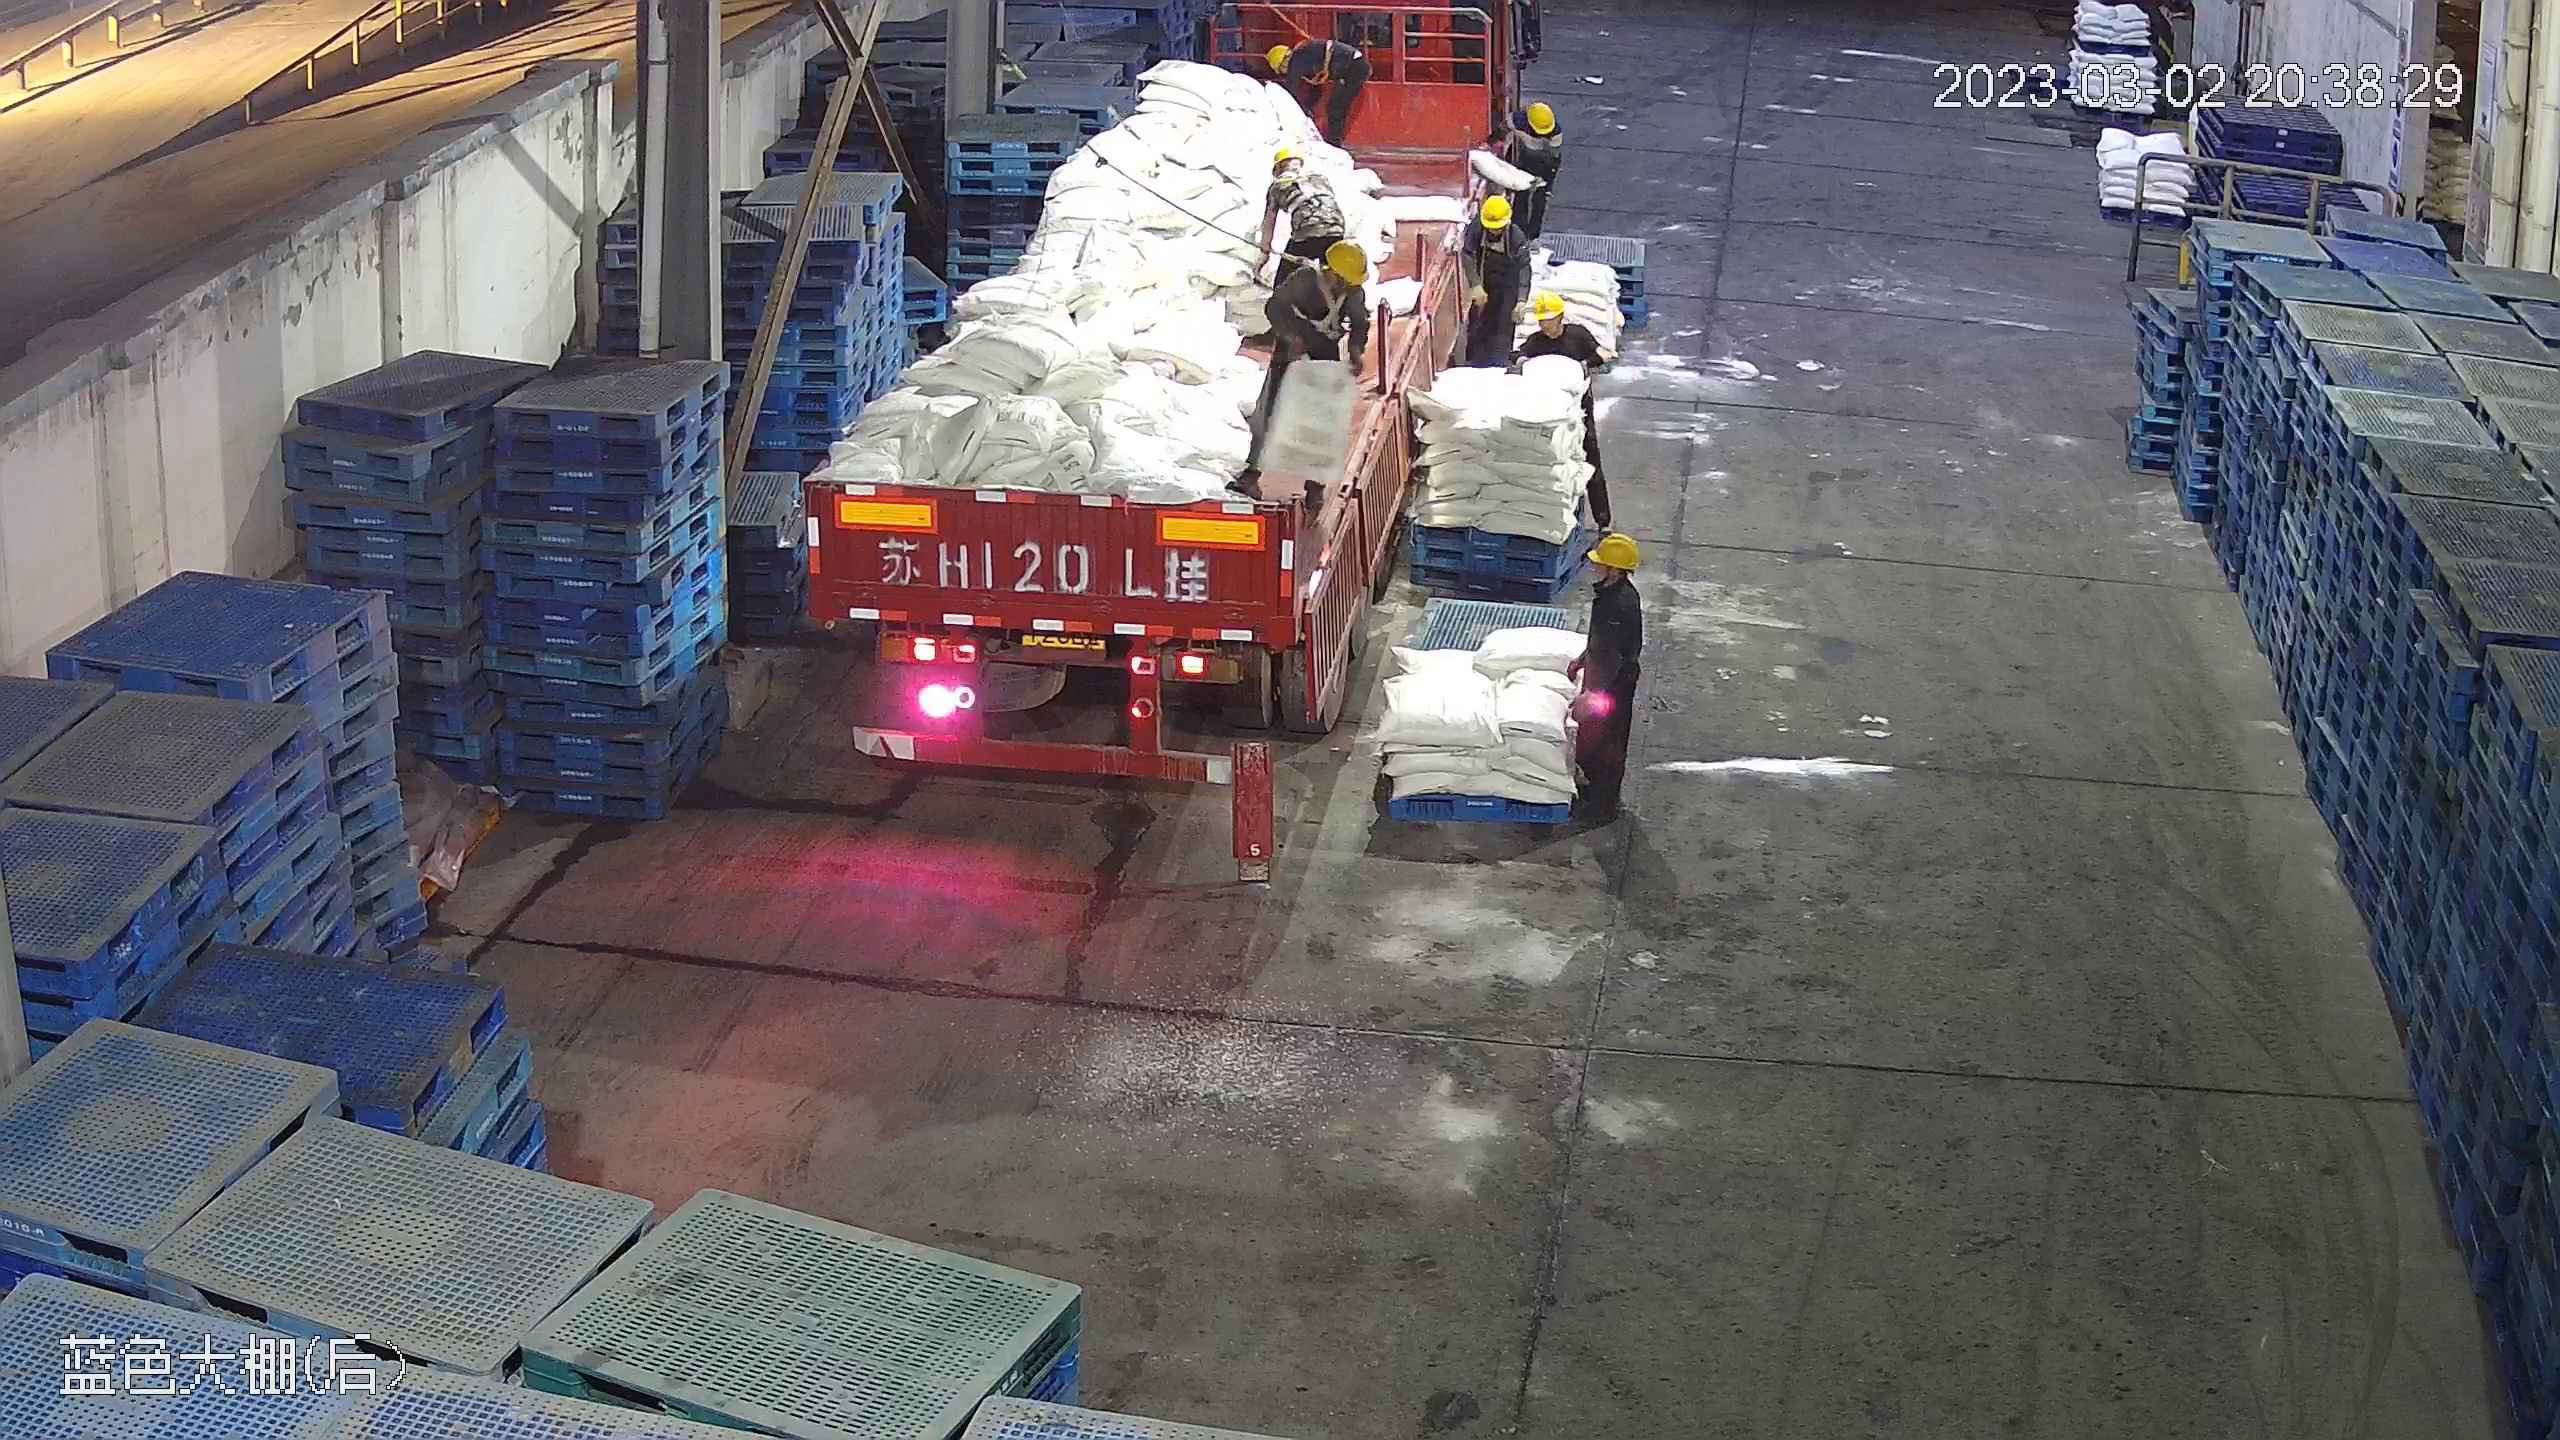belt: (1287, 265, 1353, 334), (1282, 171, 1328, 221), (1299, 36, 1342, 75), (1477, 223, 1512, 258)
head: (1276, 238, 1371, 324), (1580, 529, 1642, 636), (1520, 291, 1600, 358), (1463, 191, 1532, 266), (1502, 102, 1560, 169), (1264, 37, 1332, 82), (1269, 145, 1324, 197)
helmet: (1320, 237, 1370, 289), (1585, 529, 1640, 569), (1479, 192, 1514, 228), (1527, 101, 1558, 135), (1528, 290, 1565, 320), (1261, 43, 1290, 71), (1273, 145, 1300, 164)
people: (1565, 528, 1644, 833), (1454, 189, 1533, 359), (1267, 33, 1366, 151), (1502, 98, 1560, 264)
truck: (794, 17, 1484, 774)
